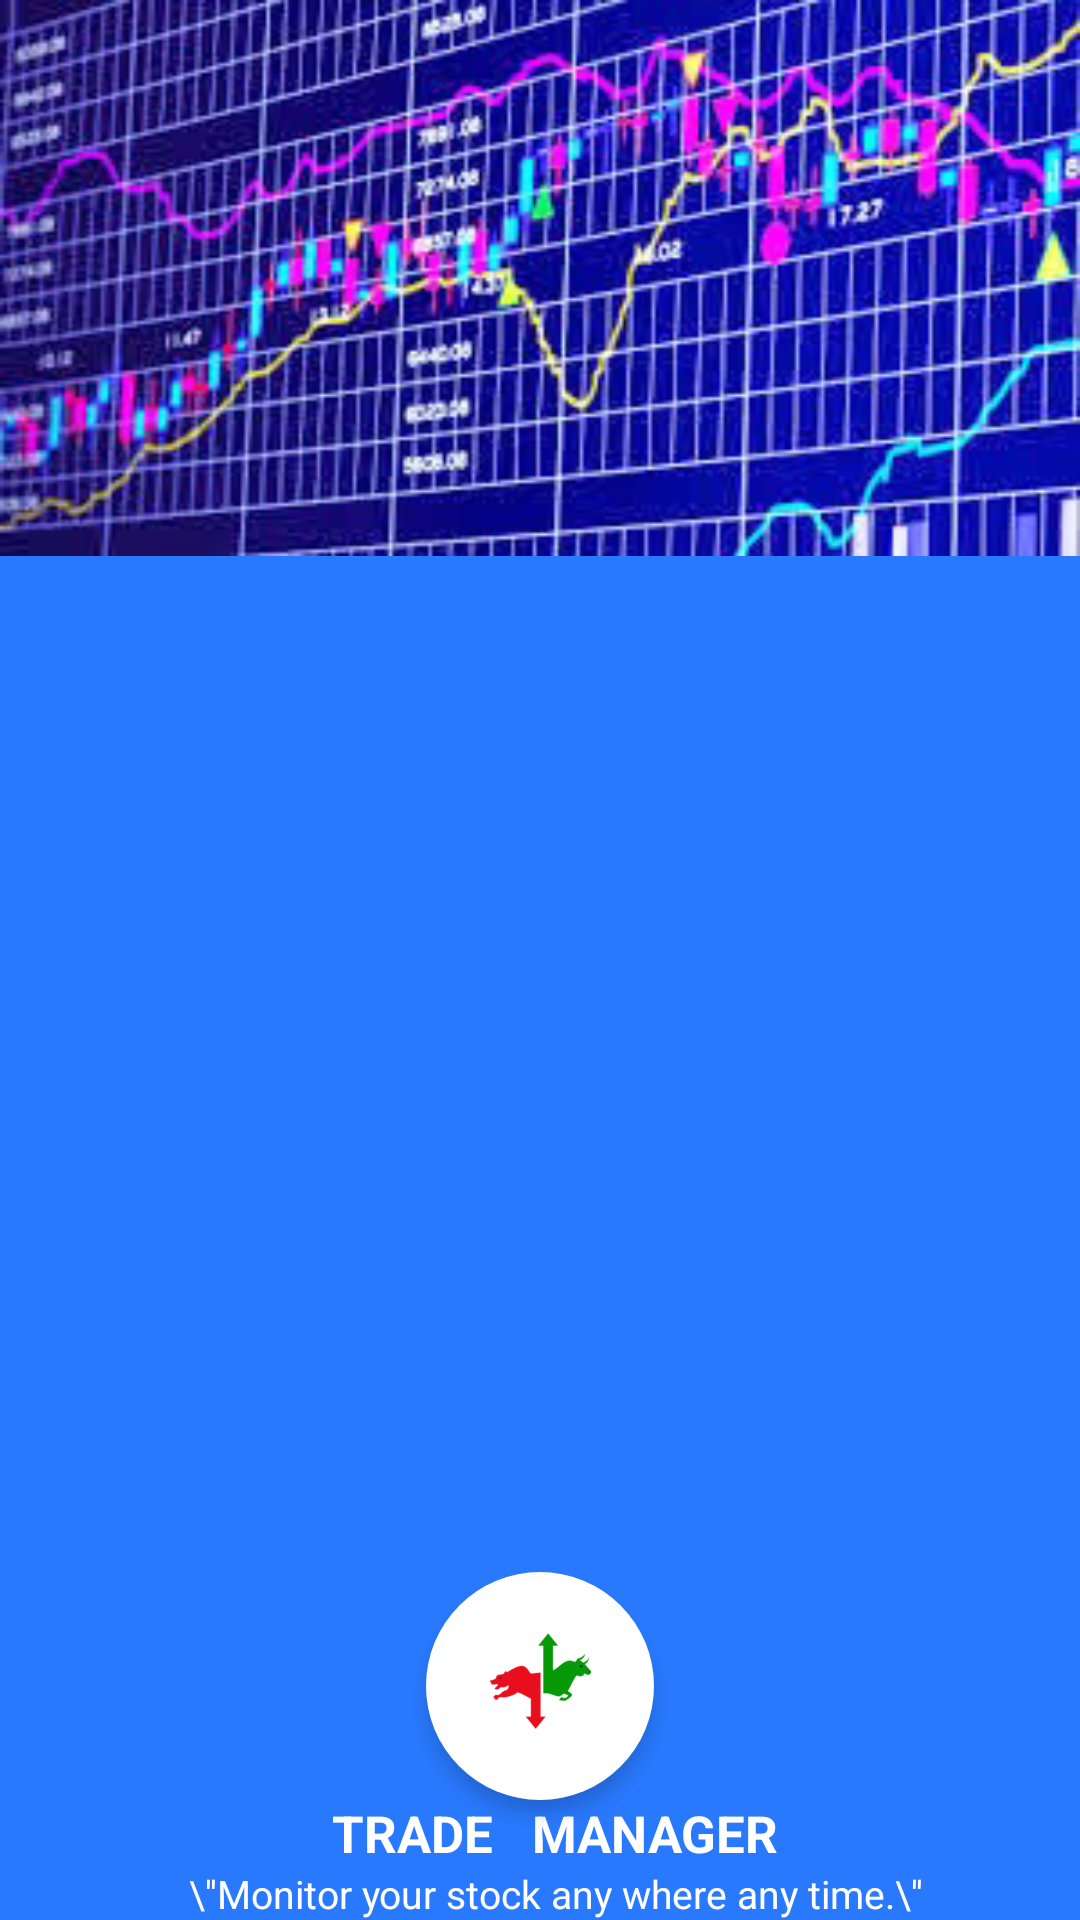

Icons on this 1080px×1920px Android screen, each with the point to tap as [x,y]:
appicon: [540,1686]
